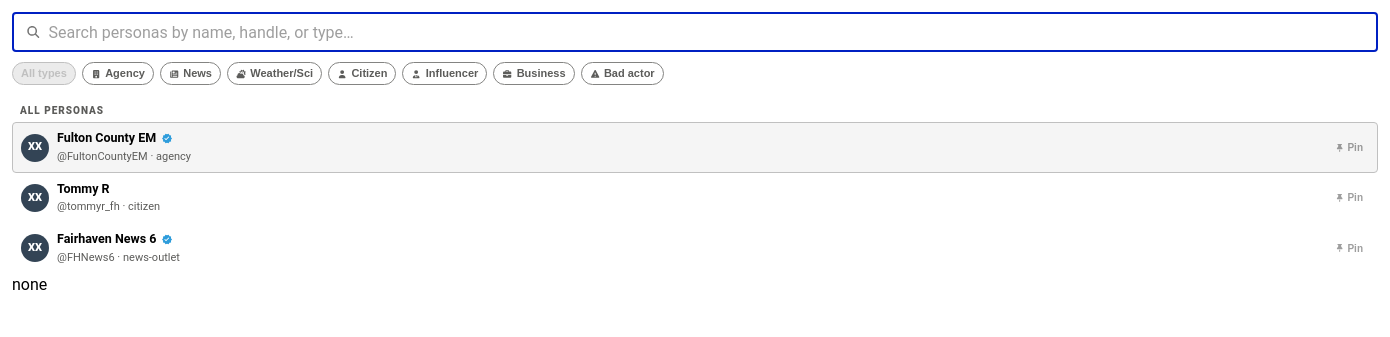
PersonaPicker — active persona indicator › marks the currently active persona with an ACTIVE badge
Click the option with test id "persona-picker-option-persona-fulton-em" at (107, 138), box [12,122,1378,173]
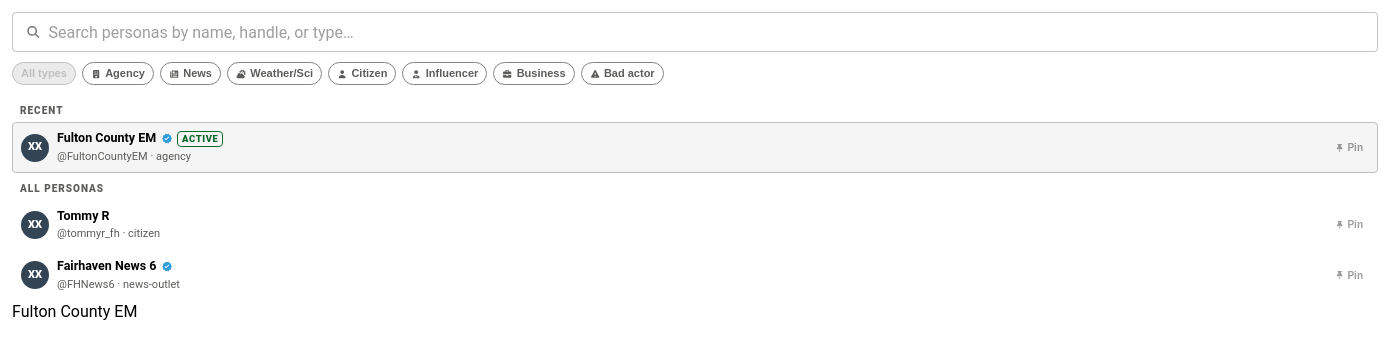
expect the text "ACTIVE" is shown: met, box [177,131,224,147]
